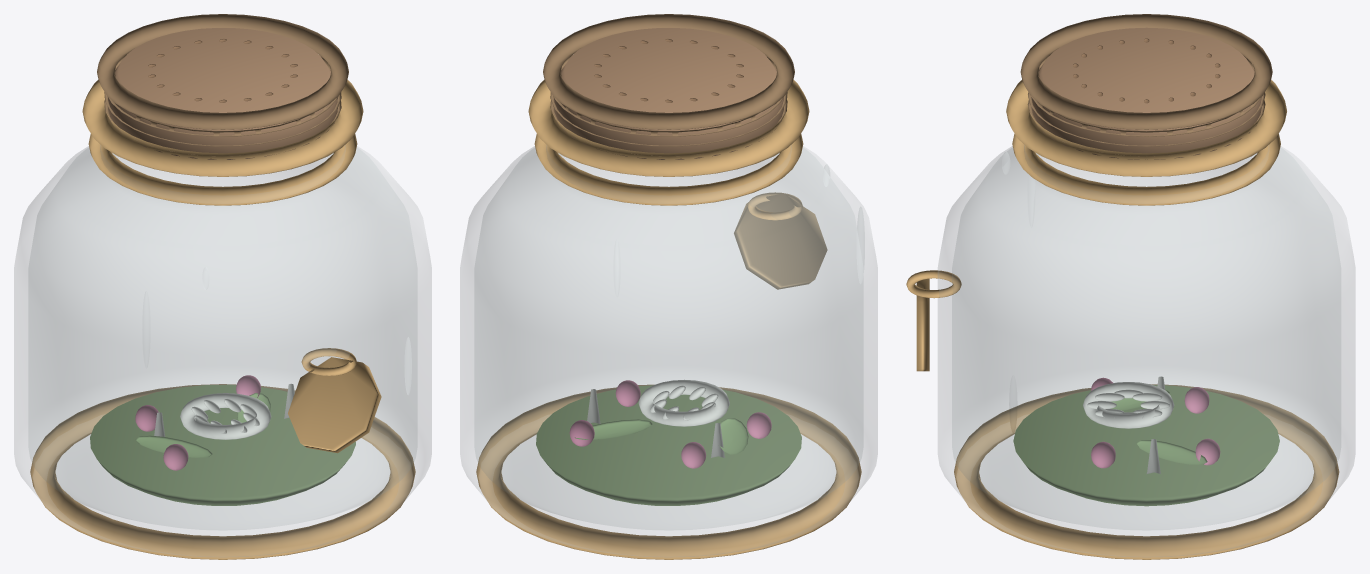
File: jar_07_dinner.glb
3 views of the same model, side by side, from view 1: azimuth 30°, elevation 25°; view 2: azimuth 150°, elevation 25°; view 3: azimuth 270°, elevation 25° (orthographic).
Visible parts, largest first — view 1: Outer glass wall, Inner glass wall, Natural cork stopper, Soft moss and earth bed, Foot brass ring, Stopper top binding, Stopper retaining ring, Unlabeled citrus charm, Neck collar, Dried orange wheel, Cork grain (×2), Charm loop (+2 smaller); view 2: Outer glass wall, Inner glass wall, Natural cork stopper, Soft moss and earth bed, Foot brass ring, Stopper top binding, Stopper retaining ring, Unlabeled citrus charm, Neck collar, Dried orange wheel, Wild berry (×4), Pressed botanical leaf (×2) (+2 smaller); view 3: Outer glass wall, Inner glass wall, Soft moss and earth bed, Natural cork stopper, Foot brass ring, Stopper top binding, Stopper retaining ring, Neck collar, Dried orange wheel, Unlabeled citrus charm, Cork grain, Charm loop (+1 smaller).
Part boxes in pixels (x1,y1,x2,y2): Outer glass wall: [14, 145, 431, 557]; Inner glass wall: [29, 148, 416, 529]; Natural cork stopper: [108, 28, 337, 159]; Soft moss and earth bed: [90, 384, 355, 505]; Foot brass ring: [30, 384, 415, 559]; Stopper top binding: [97, 14, 348, 129]; Stopper retaining ring: [82, 80, 363, 176]; Unlabeled citrus charm: [288, 357, 381, 453]; Neck collar: [88, 134, 357, 205]; Dried orange wheel: [180, 393, 271, 439]; Cork grain (×2): [104, 55, 341, 146]; Charm loop: [301, 348, 356, 375]; Outer glass wall: [460, 145, 877, 557]; Inner glass wall: [475, 148, 862, 529]; Natural cork stopper: [554, 28, 783, 159]; Soft moss and earth bed: [536, 385, 801, 505]; Foot brass ring: [476, 384, 861, 559]; Stopper top binding: [543, 14, 794, 129]; Stopper retaining ring: [528, 80, 809, 176]; Unlabeled citrus charm: [734, 193, 827, 289]; Neck collar: [534, 134, 803, 205]; Dried orange wheel: [638, 379, 729, 426]; Wild berry (×4): [569, 380, 771, 468]; Pressed botanical leaf (×2): [575, 418, 748, 454]; Outer glass wall: [938, 145, 1355, 557]; Inner glass wall: [952, 148, 1340, 529]; Soft moss and earth bed: [1013, 385, 1279, 506]; Natural cork stopper: [1031, 27, 1261, 159]; Foot brass ring: [954, 384, 1339, 559]; Stopper top binding: [1020, 14, 1272, 129]; Stopper retaining ring: [1006, 80, 1286, 176]; Neck collar: [1012, 134, 1280, 205]; Dried orange wheel: [1083, 382, 1174, 428]; Unlabeled citrus charm: [916, 278, 929, 371]; Cork grain: [1030, 54, 1262, 136]; Charm loop: [906, 270, 961, 298].
Bounding box in the file's own units: 1.16 × 1.31 × 1.25.
